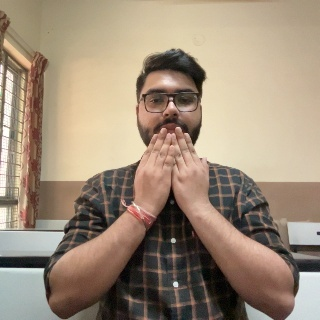Thank You: (127, 125, 214, 223)
